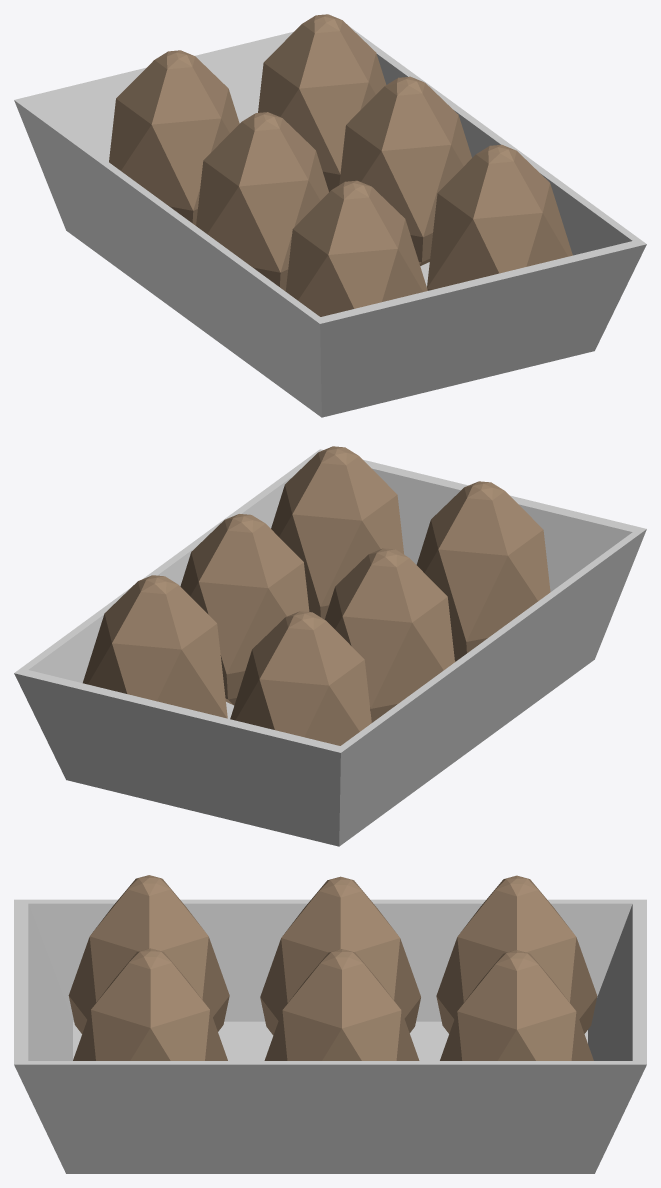
The model's file is oeuf.fbx.
3 views of the same model, one above another, from view 1: azimuth 30°, elevation 25°; view 2: azimuth 150°, elevation 25°; view 3: azimuth 270°, elevation 25° (orthographic). The views are drawn at different scales.
Visible parts, largest first — view 1: oeuf; view 2: oeuf; view 3: oeuf.
Part boxes in pixels (bbox=[...]): oeuf: bbox=[14, 14, 646, 417]; oeuf: bbox=[14, 446, 646, 846]; oeuf: bbox=[14, 875, 646, 1173].
Bounding box in the file's own units: 25.89 × 41.98 × 14.21.
